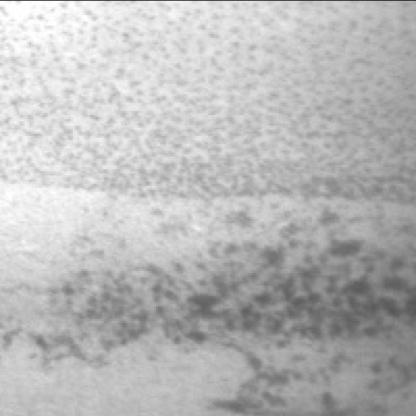pitted_surface: (0, 4, 414, 206), (0, 220, 412, 414)
